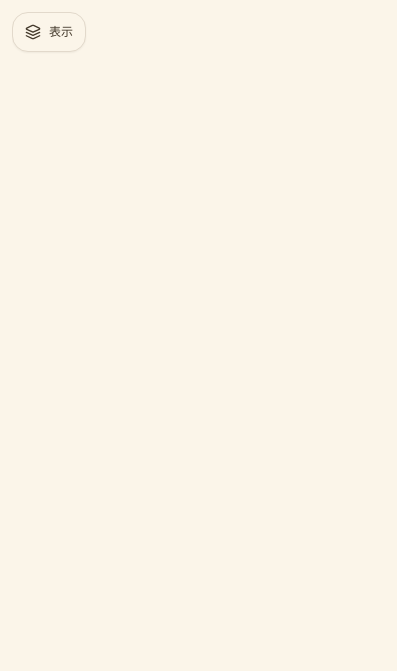
Scenario: MapStyleSelector › opens grouped desktop content in a popover instead of menu semantics
Click the button "表示" at (49, 32), box [12,12,86,52]
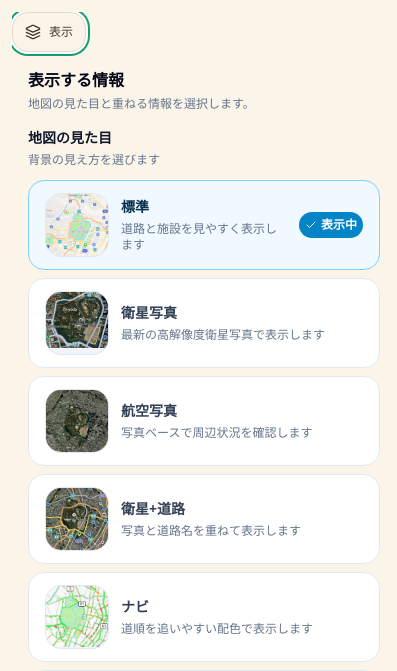
Expected: the text "表示する情報" is shown, [28,69,124,91]
